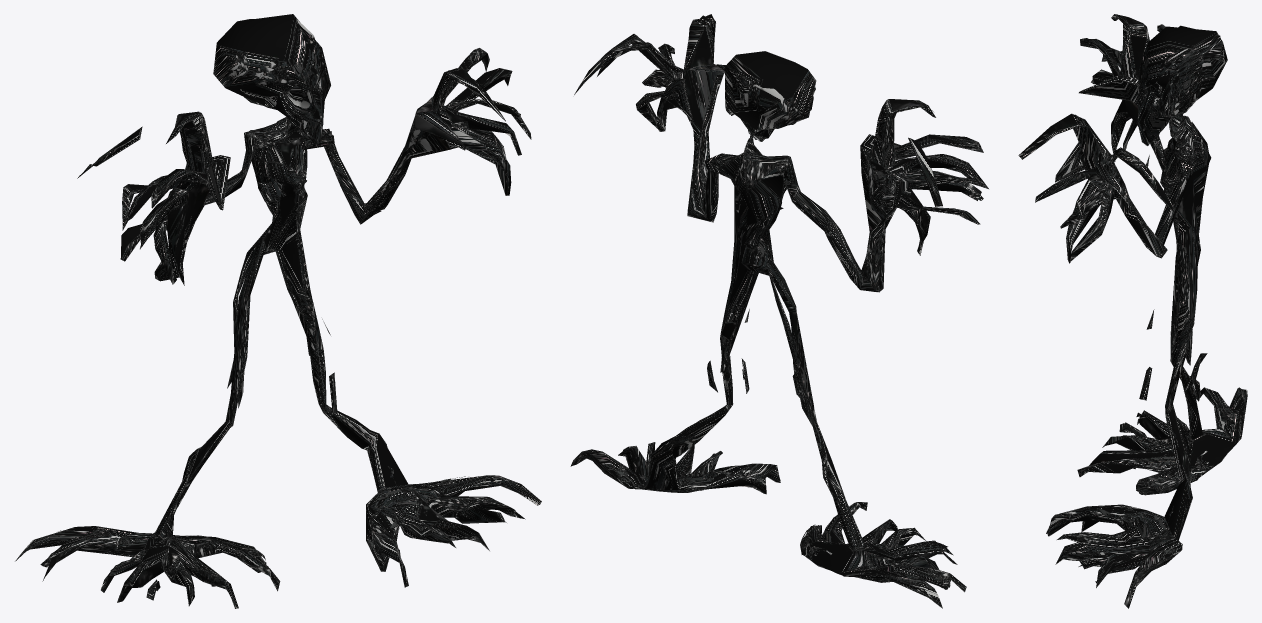
File: entity.glb
The picture shows the model from 3 angles, left to right: view 1: azimuth 30°, elevation 25°; view 2: azimuth 150°, elevation 25°; view 3: azimuth 270°, elevation 25°; orthographic projection. The views are drawn at different scales.
Visible parts, largest first — view 1: world; view 2: world; view 3: world.
Part boxes in pixels (x1,y1,x2,y2): world: (15,14,541,608); world: (570,14,988,608); world: (1018,14,1247,608).
Bounding box in the file's own units: 0.9151 × 0.9943 × 0.4321.
Materials: 1 (1 with a texture image).
